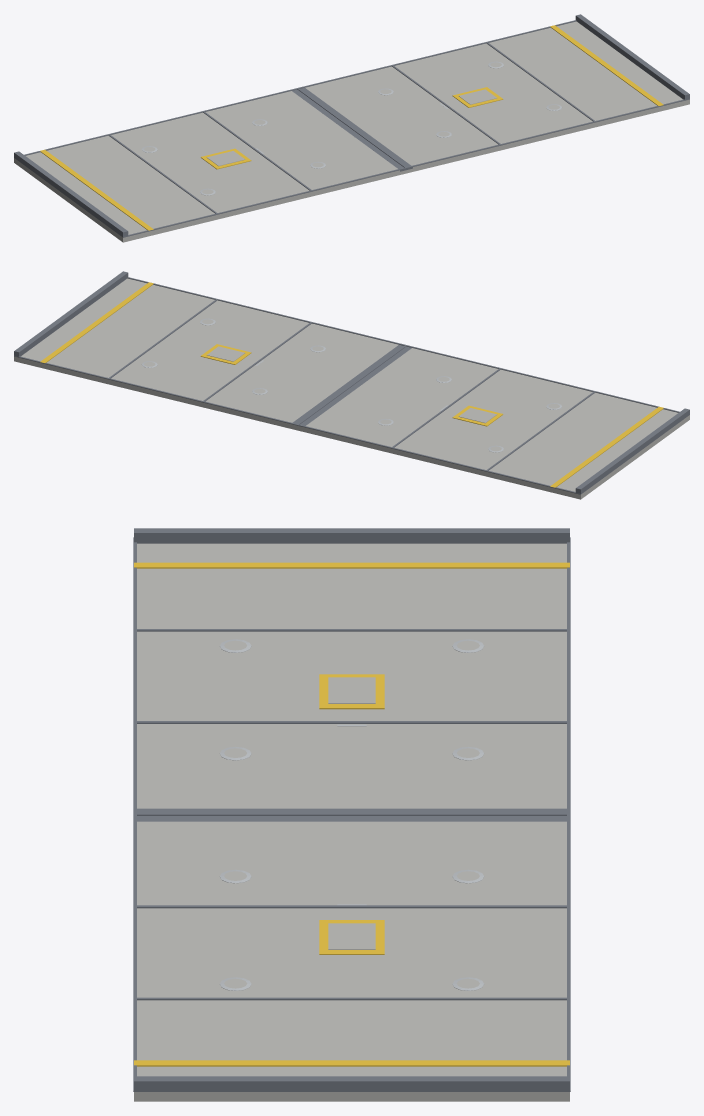
Rendered from ufo-crash-site-and-recovery-facility-bay-floor-slab-8d9c7e95__17357.glb.
3 renders of one model, top to bottom at view 1: azimuth 30°, elevation 25°; view 2: azimuth 150°, elevation 25°; view 3: azimuth 270°, elevation 25°, orthographic. The views are drawn at different scales.
Parts seen in each view (by area): view 1: bay-floor-slab; view 2: bay-floor-slab; view 3: bay-floor-slab.
Part boxes in pixels (bbox=[...]): bay-floor-slab: bbox=[14, 14, 689, 242]; bay-floor-slab: bbox=[14, 271, 689, 499]; bay-floor-slab: bbox=[133, 528, 570, 1101].
Size of the model in its own units: 18 by 0.3101 by 6.01.
